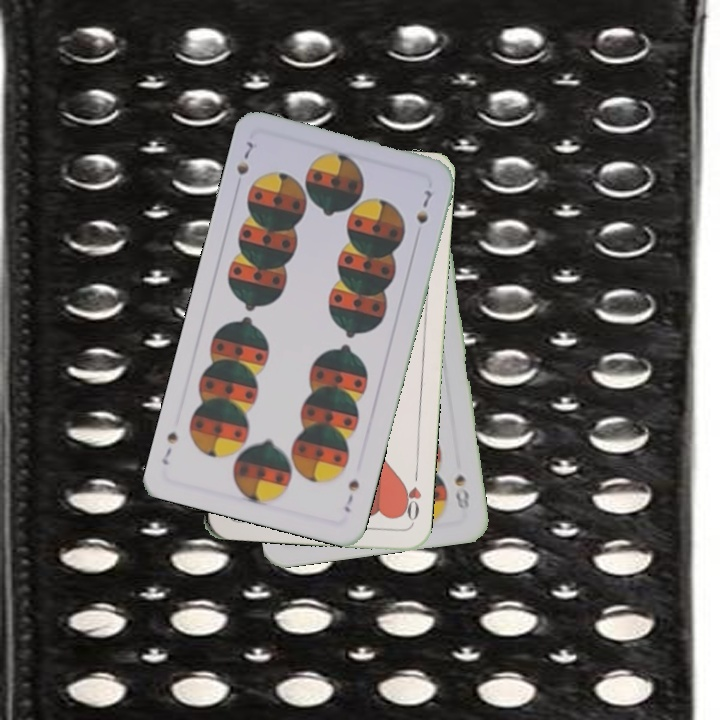HO: (397, 467, 424, 526)
S7: (232, 137, 257, 178), (340, 475, 362, 515)
S8: (451, 470, 472, 511)
